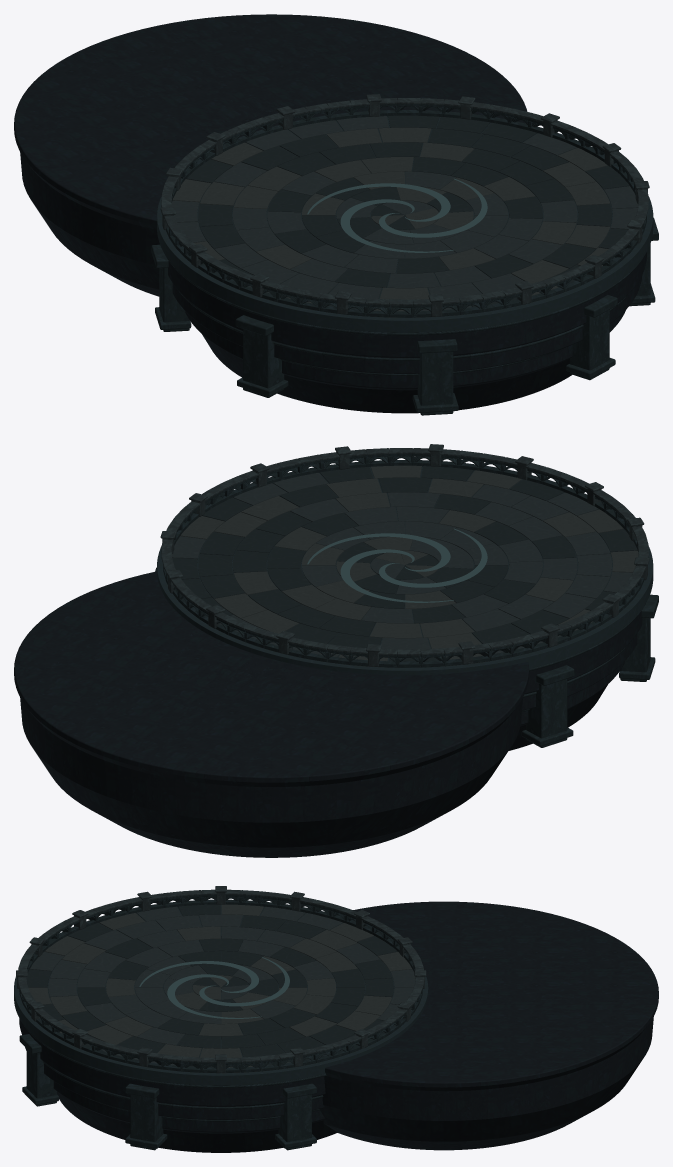
The model's file is stage.gltf.
The picture shows the model from 3 angles, top to bottom: view 1: azimuth 30°, elevation 25°; view 2: azimuth 150°, elevation 25°; view 3: azimuth 270°, elevation 25°; orthographic projection. The views are drawn at different scales.
Visible parts, largest first — view 1: SanctuaryRockFooting, CarvedFlagstones_0, LayeredFoundation, CarvedFlagstones_1, CarvedFlagstones_2, ButtressedDrum, ArenaFloor, ParapetStone, ParapetCaps, ParapetPosts, FoundationMouldings, WindSeal; view 2: SanctuaryRockFooting, CarvedFlagstones_0, CarvedFlagstones_1, CarvedFlagstones_2, ParapetStone, ParapetCaps, ArenaFloor, ButtressedDrum, LayeredFoundation, ParapetPosts, WindSeal; view 3: SanctuaryRockFooting, CarvedFlagstones_1, CarvedFlagstones_0, CarvedFlagstones_2, LayeredFoundation, ParapetStone, ArenaFloor, ButtressedDrum, ParapetCaps, ParapetPosts, WindSeal, FoundationMouldings.
Boxes of the visible parts, x1,y1,x2,y2 form: SanctuaryRockFooting: (14,14,527,296); CarvedFlagstones_0: (186,115,629,316); LayeredFoundation: (168,252,646,413); CarvedFlagstones_1: (171,116,638,317); CarvedFlagstones_2: (172,127,627,317); ButtressedDrum: (151,217,658,415); ArenaFloor: (157,116,653,332); ParapetStone: (166,104,646,317); ParapetCaps: (161,98,648,305); ParapetPosts: (160,94,649,316); FoundationMouldings: (164,253,645,375); WindSeal: (307,178,487,252); SanctuaryRockFooting: (14,571,529,857); CarvedFlagstones_0: (172,466,637,667); CarvedFlagstones_1: (172,472,632,662); CarvedFlagstones_2: (180,465,638,667); ParapetStone: (163,454,644,667); ParapetCaps: (161,448,648,655); ArenaFloor: (157,466,653,675); ButtressedDrum: (155,567,658,747); LayeredFoundation: (509,611,642,750); ParapetPosts: (160,444,649,666); WindSeal: (307,528,487,602); SanctuaryRockFooting: (320,901,658,1150); CarvedFlagstones_1: (30,906,415,1070); CarvedFlagstones_0: (26,904,397,1073); CarvedFlagstones_2: (28,904,411,1073); LayeredFoundation: (19,1018,337,1152); ParapetStone: (19,894,422,1072); ArenaFloor: (14,904,428,1085); ButtressedDrum: (19,1034,316,1150); ParapetCaps: (17,889,424,1062); ParapetPosts: (16,886,426,1072); WindSeal: (139,957,289,1018); FoundationMouldings: (20,1020,326,1121).
Size of what is drawn, in the model's own units: 32.8 by 9.39 by 49.2.
8 materials, 7 textured.
